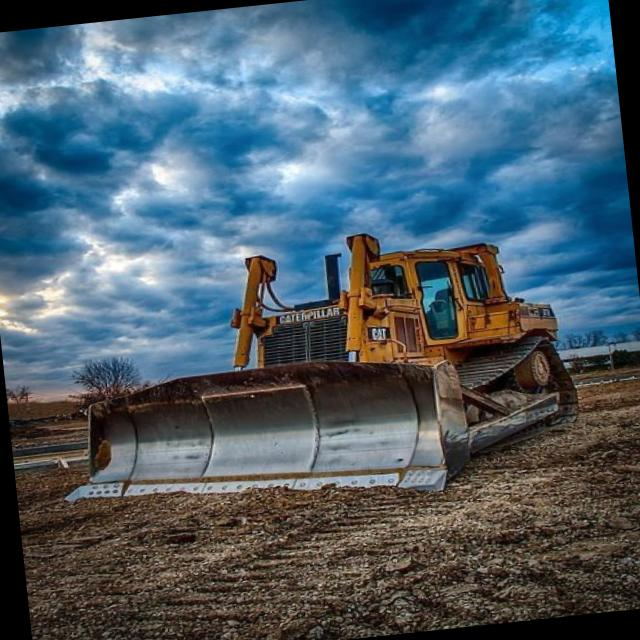red-sand: (15, 385, 640, 640)
